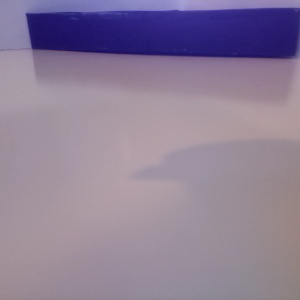zone: (25, 7, 300, 58)
